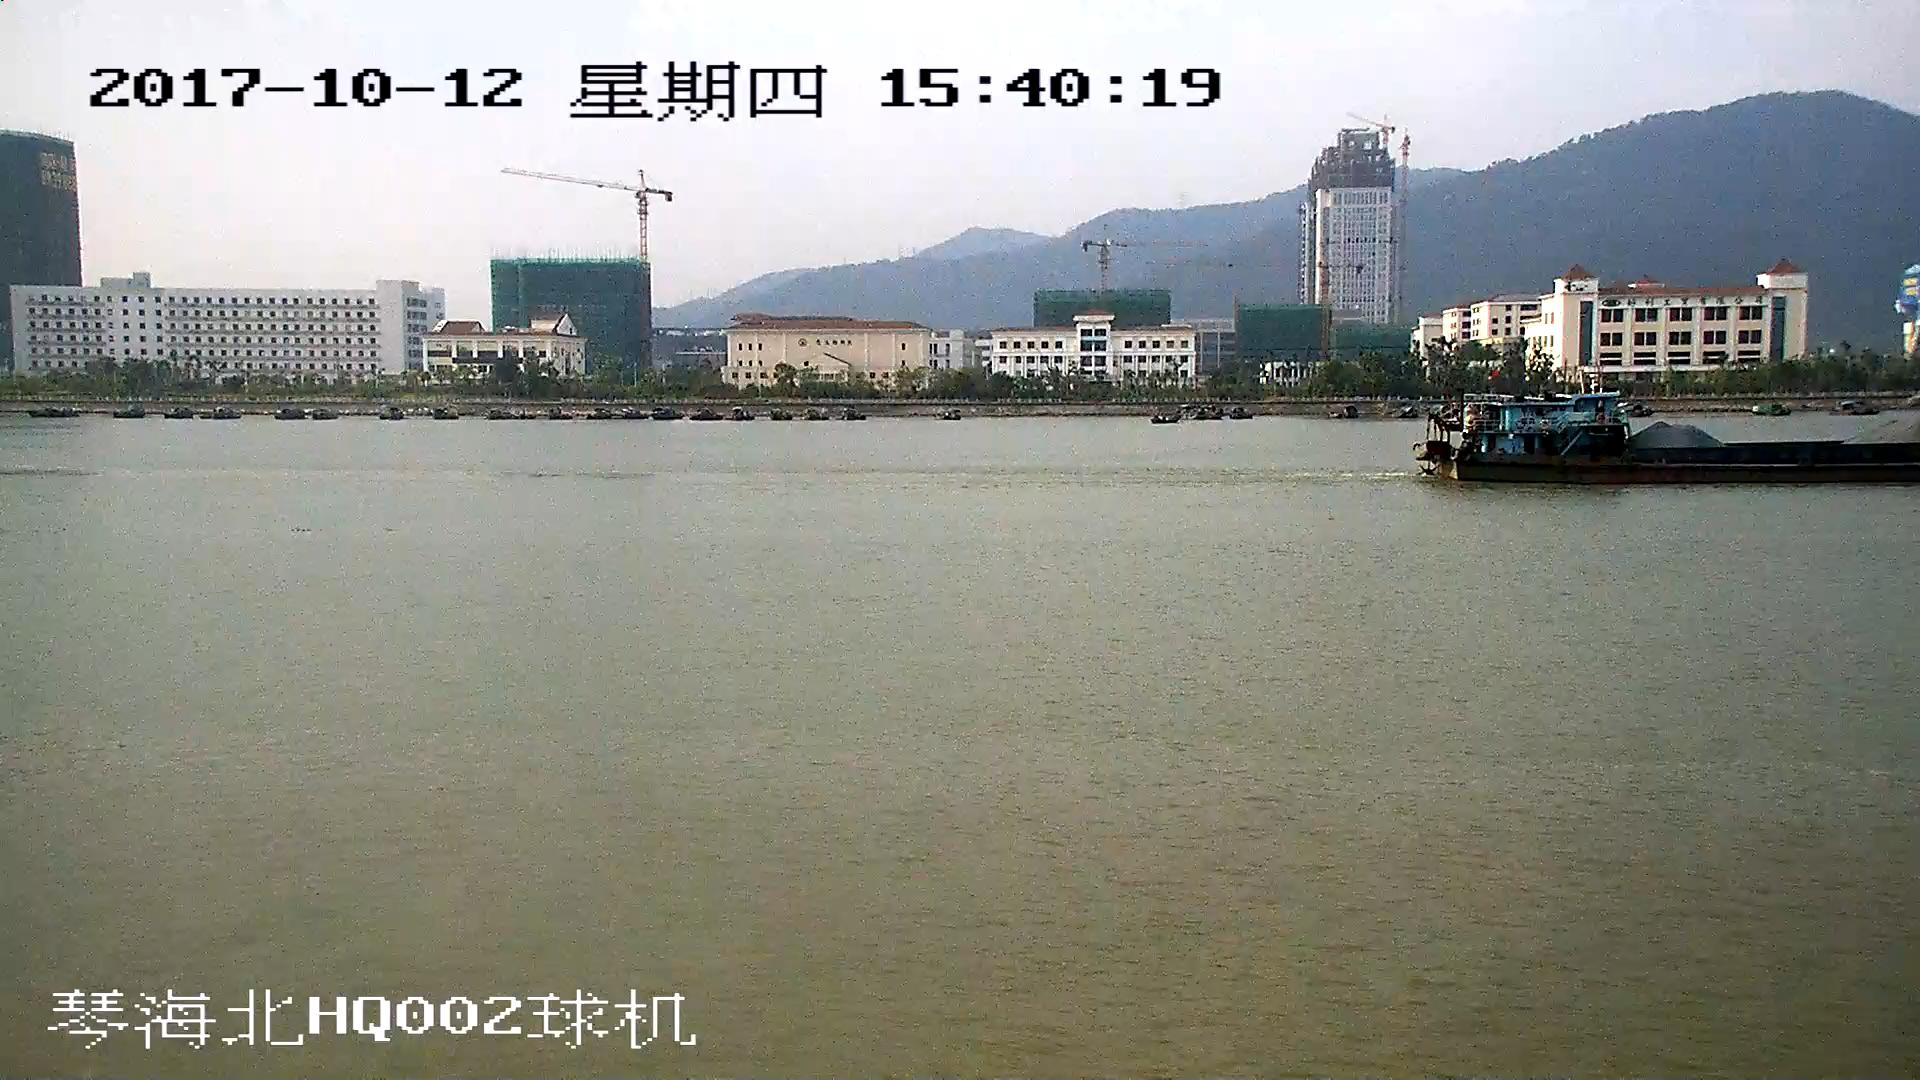ore carrier: (1421, 396, 1920, 484)
